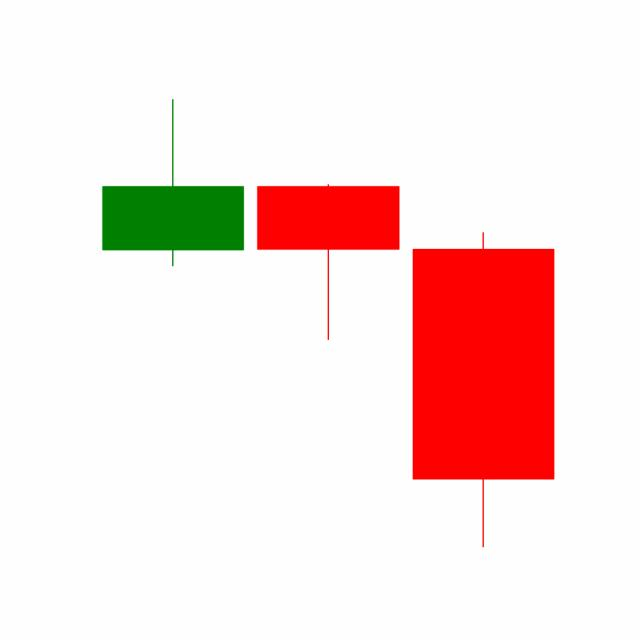Hammer: (249, 181, 406, 342)
